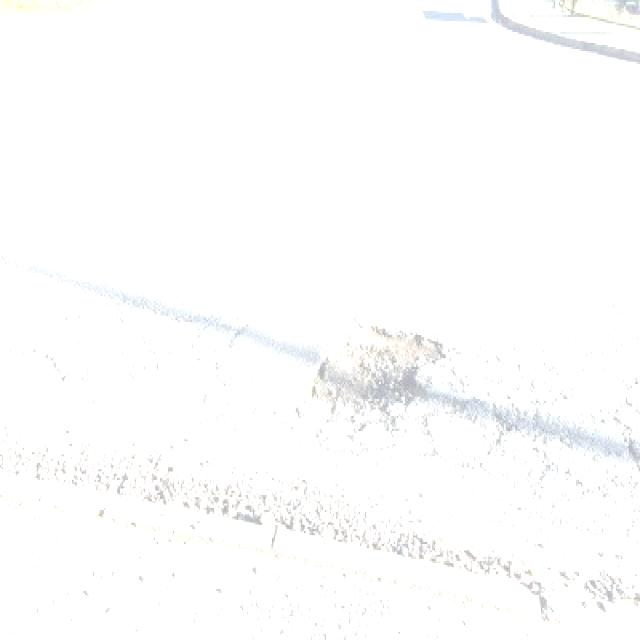Pothole: (297, 312, 455, 464)
